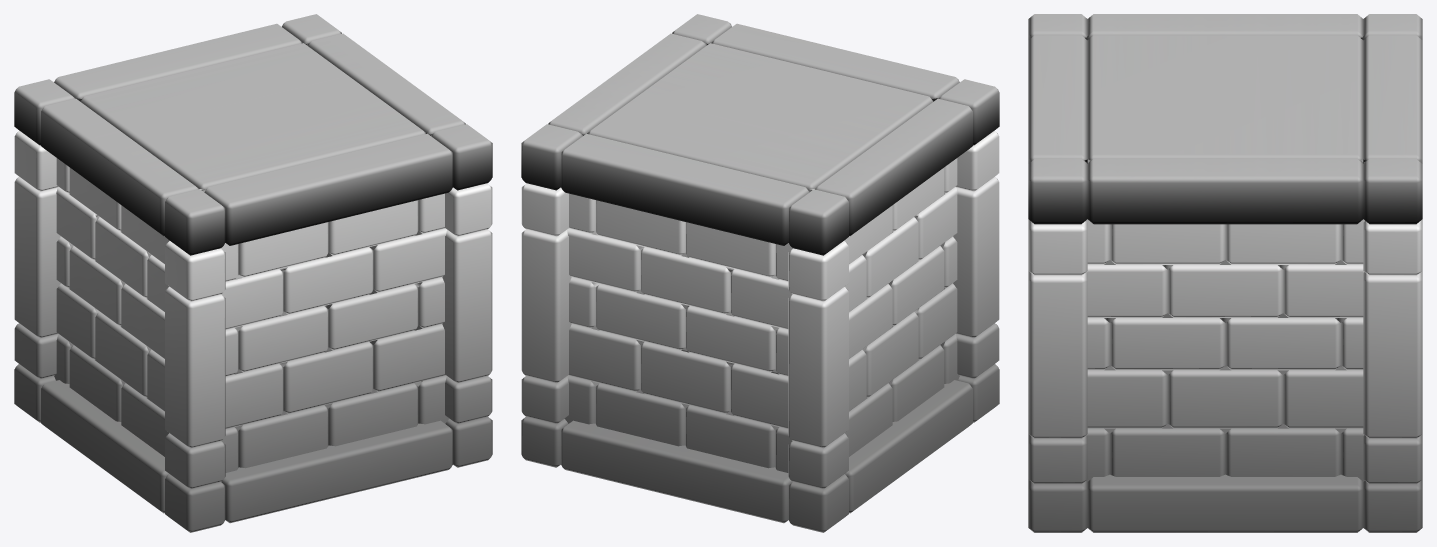
File: SM_Stone_Body_01.fbx
The picture shows the model from 3 angles, left to right: view 1: azimuth 30°, elevation 25°; view 2: azimuth 150°, elevation 25°; view 3: azimuth 270°, elevation 25°; orthographic projection. The views are drawn at different scales.
Parts seen in each view (by area): view 1: SM_Stone_Body_01; view 2: SM_Stone_Body_01; view 3: SM_Stone_Body_01.
Boxes of the visible parts, x1,y1,x2,y2 form: SM_Stone_Body_01: (14, 14, 492, 532); SM_Stone_Body_01: (521, 14, 999, 532); SM_Stone_Body_01: (1028, 14, 1422, 532).
Bounding box in the file's own units: 0.9998 × 0.9998 × 0.9998.
